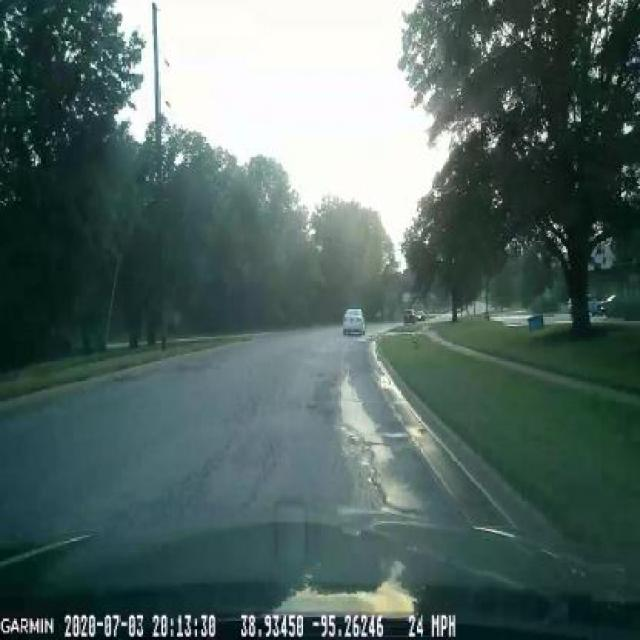Pothole: (335, 414, 413, 512)
